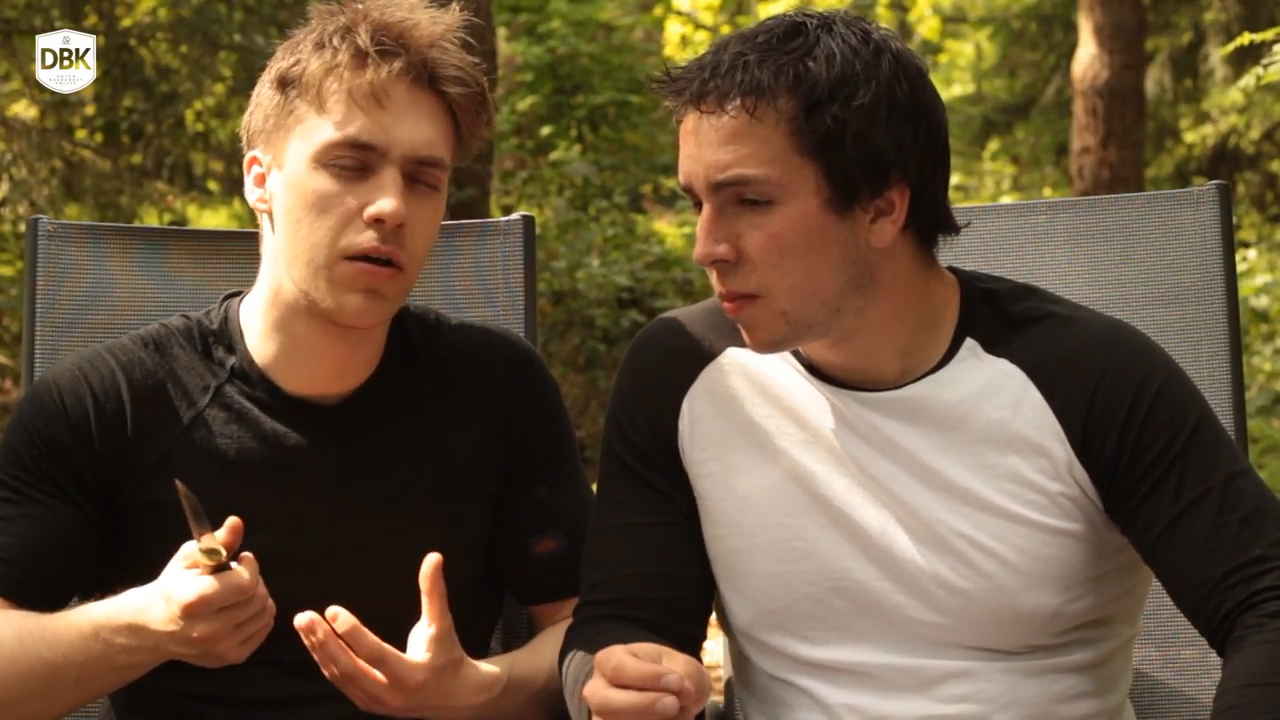knife: (157, 456, 277, 632)
